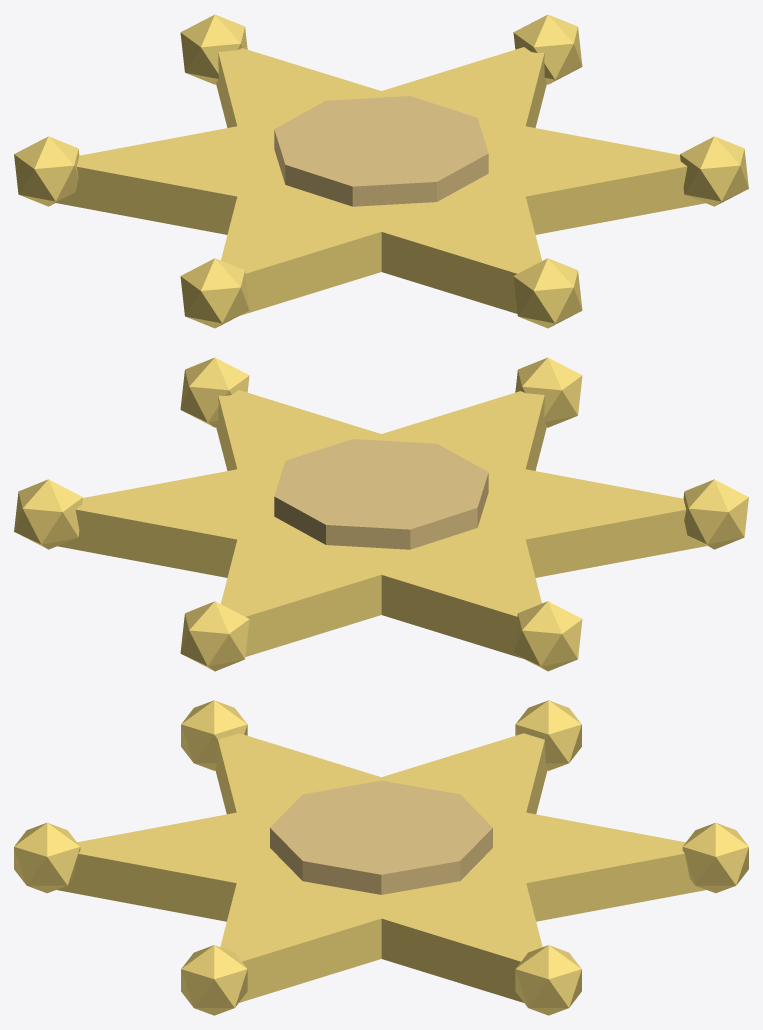
File: SM_Sheriff_Badge.glb
3 renders of one model, top to bottom at view 1: azimuth 30°, elevation 25°; view 2: azimuth 150°, elevation 25°; view 3: azimuth 270°, elevation 25°, orthographic.
Parts seen in each view (by area): view 1: SM_Sheriff_Badge; view 2: SM_Sheriff_Badge; view 3: SM_Sheriff_Badge.
Part boxes in pixels (x1=…): SM_Sheriff_Badge: x1=14, y1=14, x2=748, y2=328; SM_Sheriff_Badge: x1=14, y1=357, x2=748, y2=671; SM_Sheriff_Badge: x1=14, y1=700, x2=748, y2=1015.
Bounding box in the file's own units: 0.1164 × 0.014 × 0.1319.
